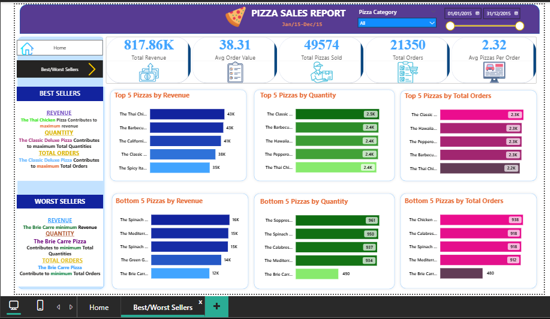

This screenshot's page, from the dashboard's own definition file:
{"tool":"powerbi","page":{"name":"Best/Worst Sellers","canvas":[1500,820],"ordinal":1},"visuals":[{"type":"textbox","box":[729.8,35.7,154.8,34],"z":0},{"type":"shape","box":[0,83.4,262,731.5],"z":1000},{"type":"cardVisual","fields":{"Data":["pizza_sales.Total Revenue","pizza_sales.Avg Order Value","pizza_sales.Total Pizzas Sold","pizza_sales.Total Orders","pizza_sales.Avg Pizzas Per Order"]},"box":[250.1,83.4,1238.5,149.7],"z":2000},{"type":"shape","box":[13.6,0,1475,83.4],"z":3000},{"type":"textbox","box":[665,0,285,50],"z":4000},{"type":"image","box":[563.1,5.1,125.9,59.5],"z":5000},{"type":"textbox","box":[5.1,233.1,245,40.8],"z":6000},{"type":"shape","box":[262,233.1,403.2,275.6],"z":7000},{"type":"textbox","box":[5.1,578.4,245,221.2],"z":8000},{"type":"textbox","box":[5.1,539.3,245,39.1],"z":9000},{"type":"textbox","box":[0,273.9,250.1,226.3],"z":10000},{"type":"textbox","box":[729.8,40.8,170.1,28.9],"z":11000},{"type":"slicer","fields":{"Values":["pizza_sales.pizza_category"]},"box":[962.9,5.1,243.3,64.6],"z":12000},{"type":"slicer","fields":{"Values":["pizza_sales.order_date"]},"box":[1206.2,0,246.7,83.4],"z":13000},{"type":"shape","box":[670.3,233.1,415.1,275.6],"z":14000},{"type":"shape","box":[1085.4,234.8,403.2,273.9],"z":15000},{"type":"shape","box":[267.1,527.4,403.2,287.5],"z":16000},{"type":"shape","box":[670.3,527.4,415.1,287.5],"z":17000},{"type":"shape","box":[1085.4,527.4,403.2,285.8],"z":18000},{"type":"barChart","title":"Top 5 Pizzas by Revenue","fields":{"Category":["pizza_sales.pizza_name"],"Y":["pizza_sales.Total Revenue"]},"box":[277.3,243.3,372.6,255.2],"z":19000},{"type":"barChart","title":"Bottom 5 Pizzas by Revenue","fields":{"Category":["pizza_sales.pizza_name"],"Y":["pizza_sales.Total Revenue"]},"box":[280.7,542.7,372.6,255.2],"z":20000},{"type":"barChart","title":"Top 5 Pizzas by Quantity","fields":{"Category":["pizza_sales.pizza_name"],"Y":["pizza_sales.Total Pizzas Sold"]},"box":[690.9,244.1,372,253.9],"z":21000},{"type":"barChart","title":"Bottom 5 Pizzas by Quantity","fields":{"Category":["pizza_sales.pizza_name"],"Y":["pizza_sales.Total Pizzas Sold"]},"box":[690.7,544.4,372.6,255.2],"z":22000},{"type":"barChart","title":"Top 5 Pizzas by Total Orders","fields":{"Category":["pizza_sales.pizza_name"],"Y":["pizza_sales.Total Orders"]},"box":[1100.7,245,372.6,255.2],"z":23000},{"type":"barChart","title":"Bottom 5 Pizzas by Total Orders","fields":{"Category":["pizza_sales.pizza_name"],"Y":["pizza_sales.Total Orders"]},"box":[1100.7,542.7,372.6,255.2],"z":24000},{"type":"pageNavigator","box":[5.1,100.4,245,44.2],"z":24001},{"type":"pageNavigator","box":[5.1,158.2,245,49.3],"z":24002},{"type":"image","box":[187.1,165,62.9,37.4],"z":24003},{"type":"image","box":[5.1,107.2,59.5,37.4],"z":24004}]}

Visuals, with their boxes on the page's 1500x820 design canvas (x1, y1, x2, y2). These are canvas units, not pixel positions in the 550x319 screenshot, which may show the page scaled, cropped or inside an application window:
textbox: bbox=(730, 36, 885, 70)
shape: bbox=(0, 83, 262, 815)
cardVisual - pizza_sales.Total Revenue x pizza_sales.Avg Order Value: bbox=(250, 83, 1489, 233)
shape: bbox=(14, 0, 1489, 83)
textbox: bbox=(665, 0, 950, 50)
image: bbox=(563, 5, 689, 65)
textbox: bbox=(5, 233, 250, 274)
shape: bbox=(262, 233, 665, 509)
textbox: bbox=(5, 578, 250, 800)
textbox: bbox=(5, 539, 250, 578)
textbox: bbox=(0, 274, 250, 500)
textbox: bbox=(730, 41, 900, 70)
slicer - pizza_sales.pizza_category: bbox=(963, 5, 1206, 70)
slicer - pizza_sales.order_date: bbox=(1206, 0, 1453, 83)
shape: bbox=(670, 233, 1085, 509)
shape: bbox=(1085, 235, 1489, 509)
shape: bbox=(267, 527, 670, 815)
shape: bbox=(670, 527, 1085, 815)
shape: bbox=(1085, 527, 1489, 813)
"Top 5 Pizzas by Revenue" barChart: bbox=(277, 243, 650, 498)
"Bottom 5 Pizzas by Revenue" barChart: bbox=(281, 543, 653, 798)
"Top 5 Pizzas by Quantity" barChart: bbox=(691, 244, 1063, 498)
"Bottom 5 Pizzas by Quantity" barChart: bbox=(691, 544, 1063, 800)
"Top 5 Pizzas by Total Orders" barChart: bbox=(1101, 245, 1473, 500)
"Bottom 5 Pizzas by Total Orders" barChart: bbox=(1101, 543, 1473, 798)
pageNavigator: bbox=(5, 100, 250, 145)
pageNavigator: bbox=(5, 158, 250, 208)
image: bbox=(187, 165, 250, 202)
image: bbox=(5, 107, 65, 145)
